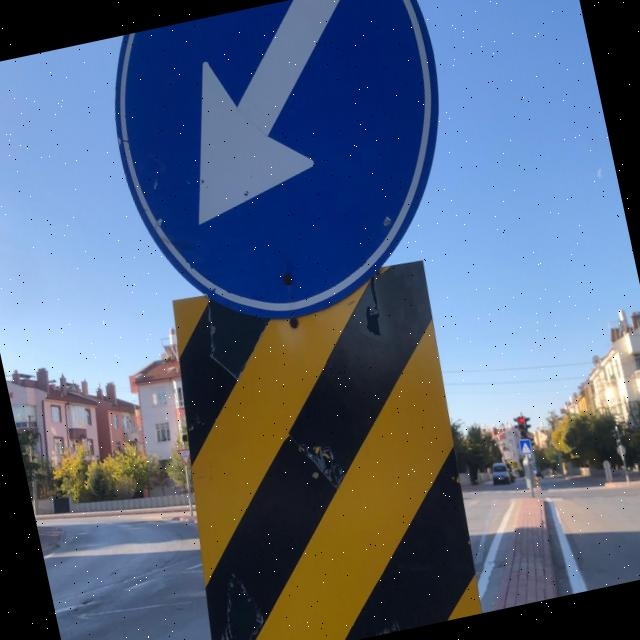compulsory_keep_right: (73, 0, 488, 361)
